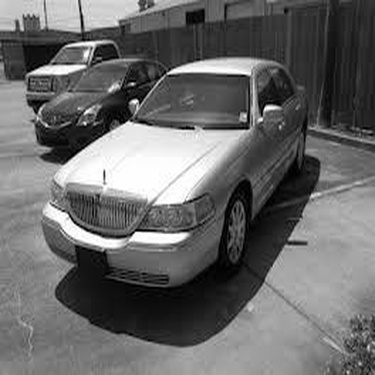car: (37, 52, 315, 296), (30, 57, 170, 150), (18, 38, 124, 109)
